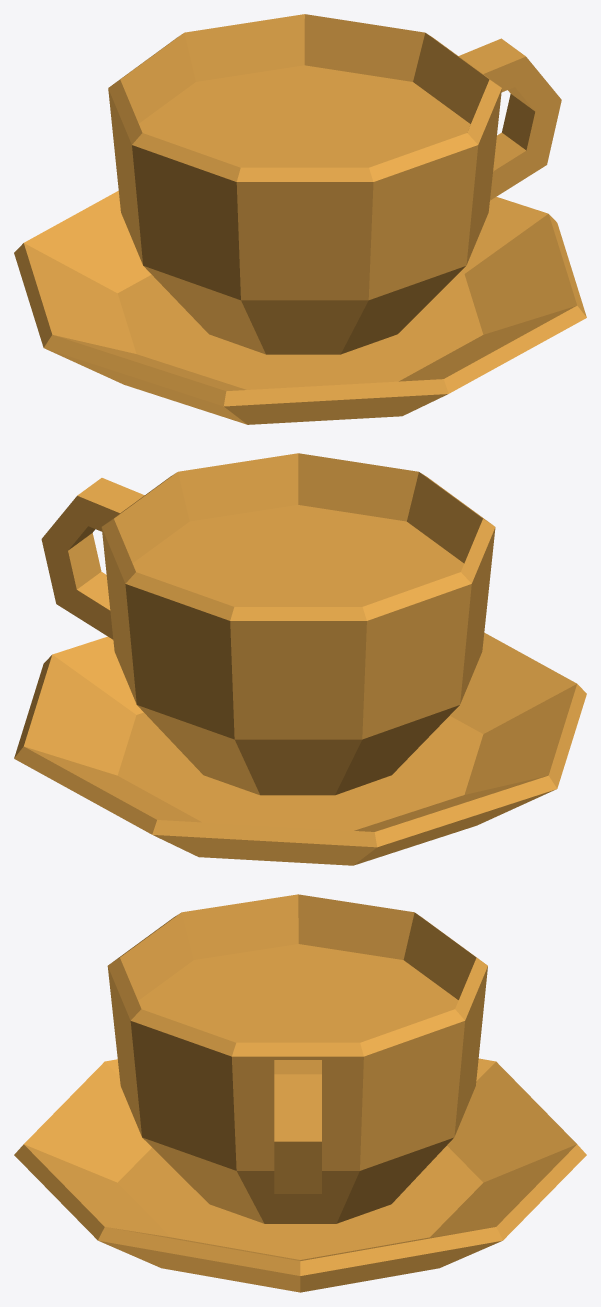
The model's file is coffee-cup.fbx.
3 renders of one model, top to bottom at view 1: azimuth 30°, elevation 25°; view 2: azimuth 150°, elevation 25°; view 3: azimuth 270°, elevation 25°, orthographic. The views are drawn at different scales.
Parts seen in each view (by area): view 1: coffee-cup; view 2: coffee-cup; view 3: coffee-cup.
Boxes of the visible parts, bbox=[...] form: coffee-cup: bbox=[14, 14, 586, 424]; coffee-cup: bbox=[14, 453, 586, 865]; coffee-cup: bbox=[14, 894, 586, 1292].
Bounding box in the file's own units: 0.178 × 0.0823 × 0.178.
